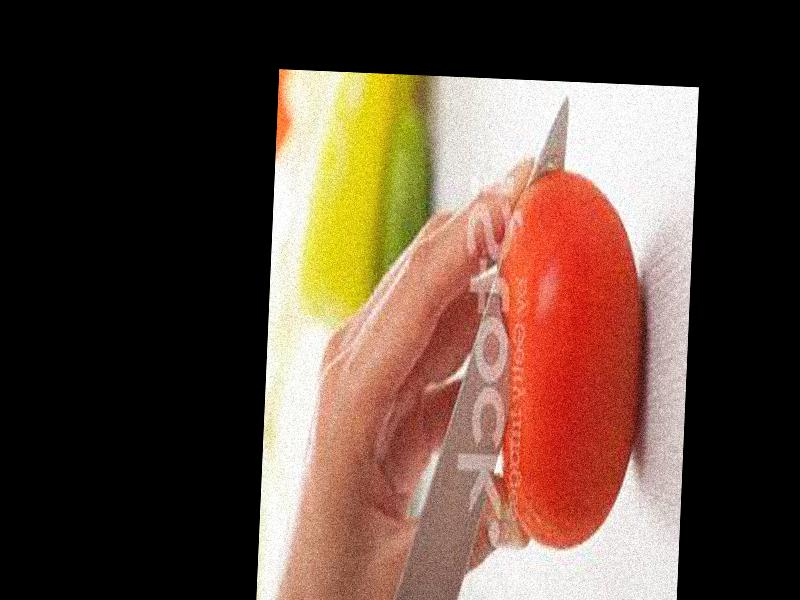Tomato: (489, 168, 652, 556)
